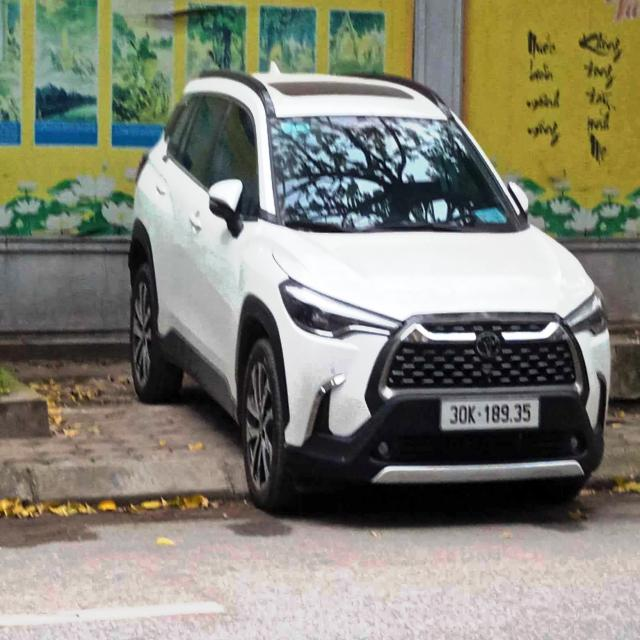license_plate: (437, 391, 545, 435)
